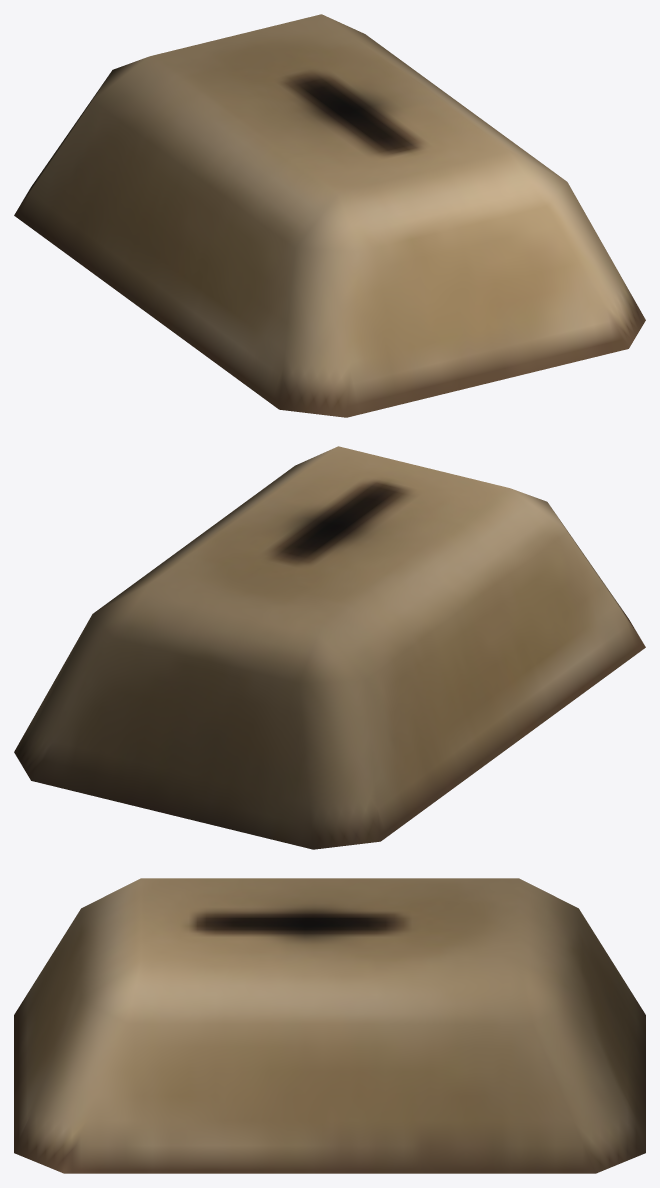
Rendered from lever_base_model.glb.
The picture shows the model from 3 angles, top to bottom: view 1: azimuth 30°, elevation 25°; view 2: azimuth 150°, elevation 25°; view 3: azimuth 270°, elevation 25°; orthographic projection.
Parts seen in each view (by area): view 1: lever_base; view 2: lever_base; view 3: lever_base.
Part boxes in pixels (x1,y1,x2,y2): lever_base: (14,14,645,417); lever_base: (14,446,645,849); lever_base: (14,878,645,1173).
Bounding box in the file's own units: 0.8046 × 0.343 × 1.2.
1 material, 1 textured.
